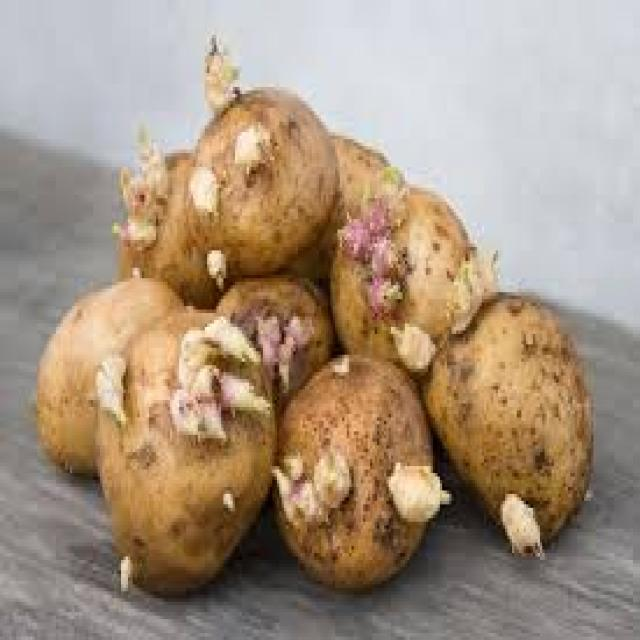Potato: (97, 286, 289, 581), (252, 361, 435, 619), (183, 88, 363, 276)
